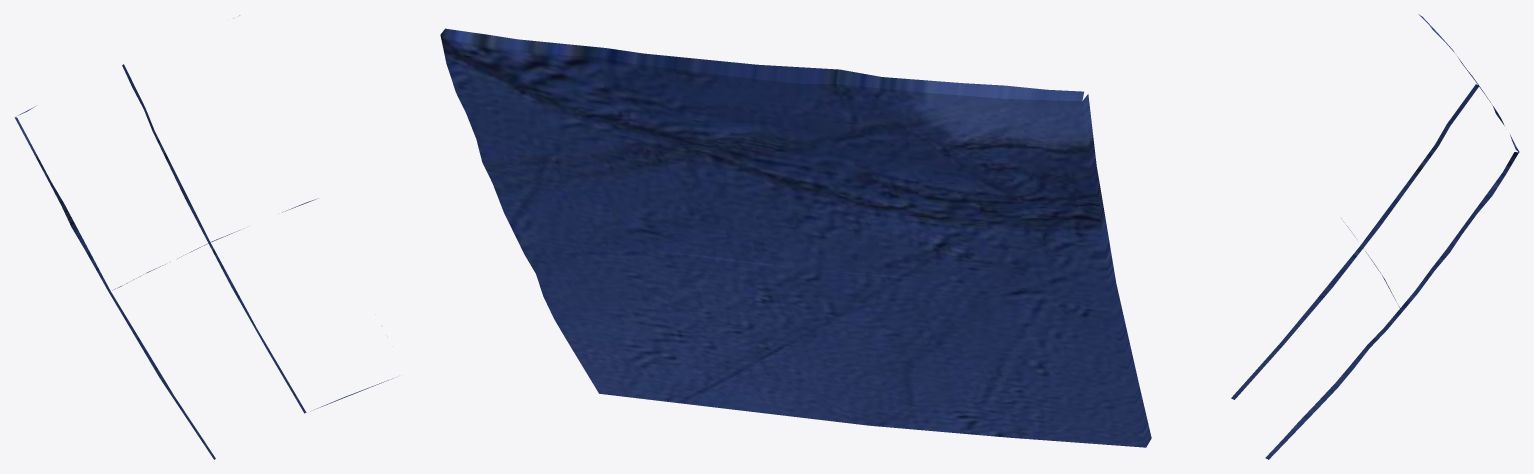
3 renders of one model, left to right at view 1: azimuth 30°, elevation 25°; view 2: azimuth 150°, elevation 25°; view 3: azimuth 270°, elevation 25°, orthographic. The views are drawn at different scales.
Bounding box in the file's own units: 1166056 × 988258 × 1049762.
Materials: 1 (1 with a texture image).
